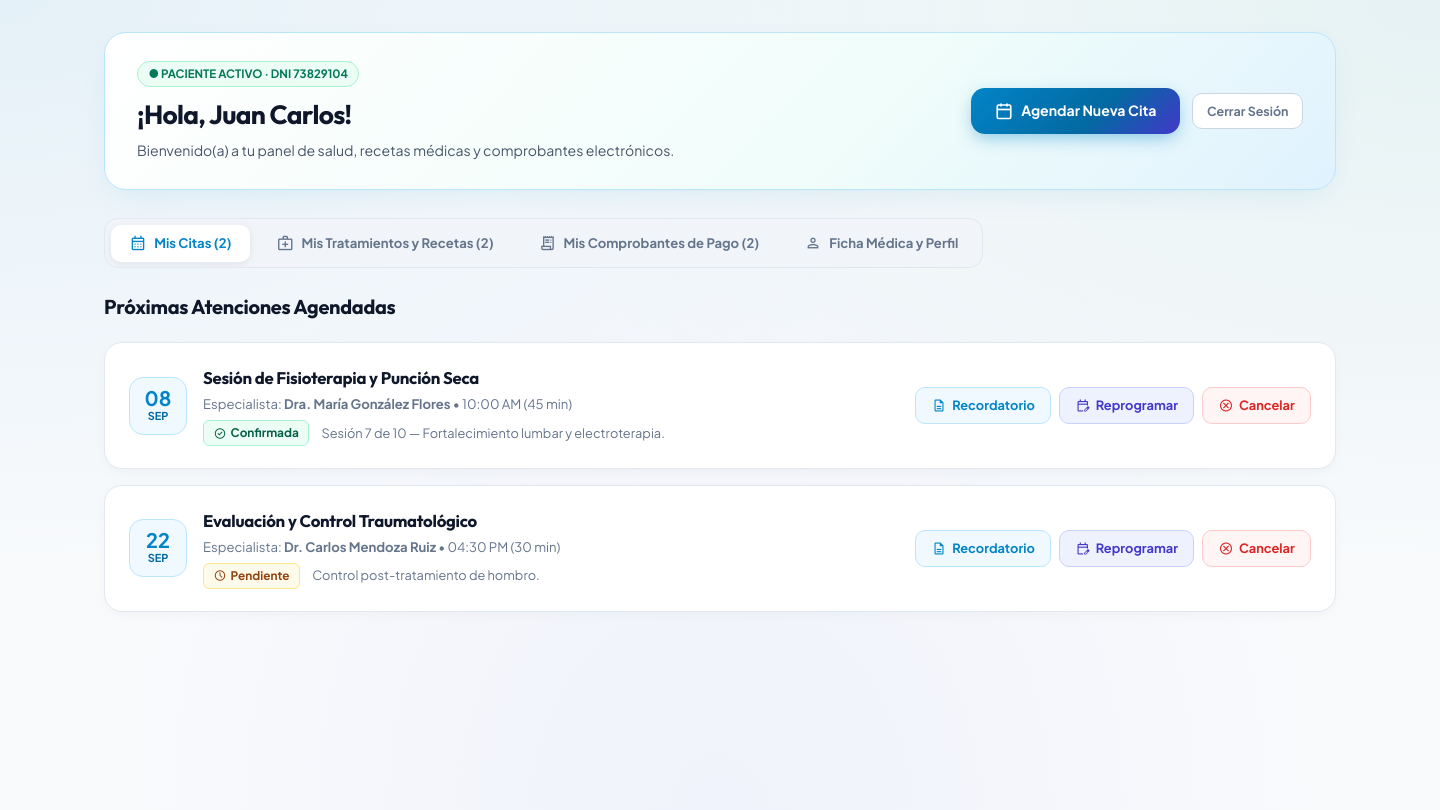
Test: PatientPortal Component › opens Cancel modal when clicking Cancelar and cancels appointment
Expected: the heading "Sesión de Fisioterapia y Punción Seca" is shown, [203,367,479,388]
Expected: the heading "Evaluación y Control Traumatológico" is shown, [203,510,477,531]
# Click cancel on the first appointment
Click the button "Cancelar" in the row of "45 min". click: (1257, 406)
box: [1202,388,1311,424]
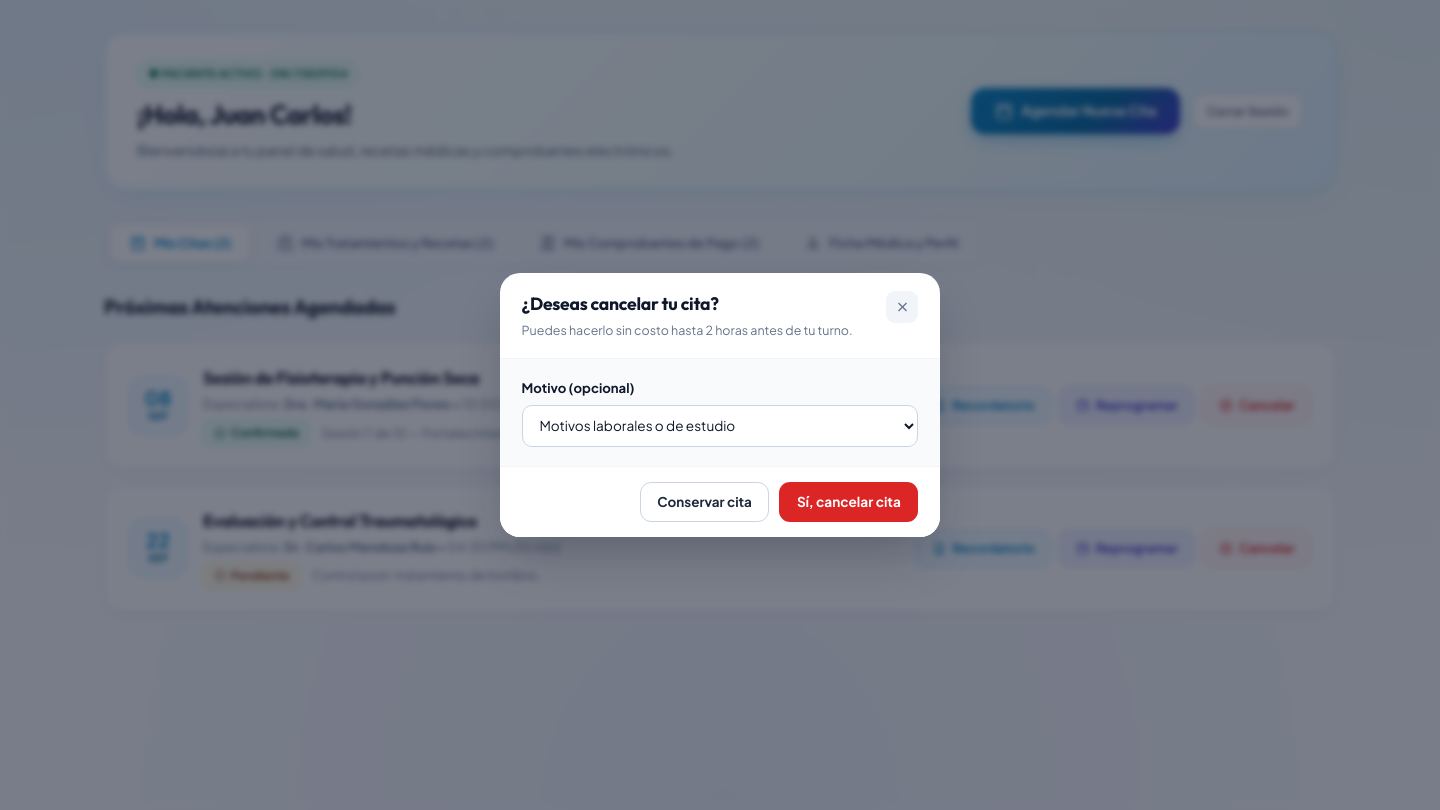
Result: the dialog named "Cancelar cita" is shown
Result: the heading "¿Deseas cancelar tu cita?" is shown at [522,292,719,315]
# Confirm cancellation
Click the button "Sí, cancelar cita". click: (849, 502)
box: [779,482,918,522]
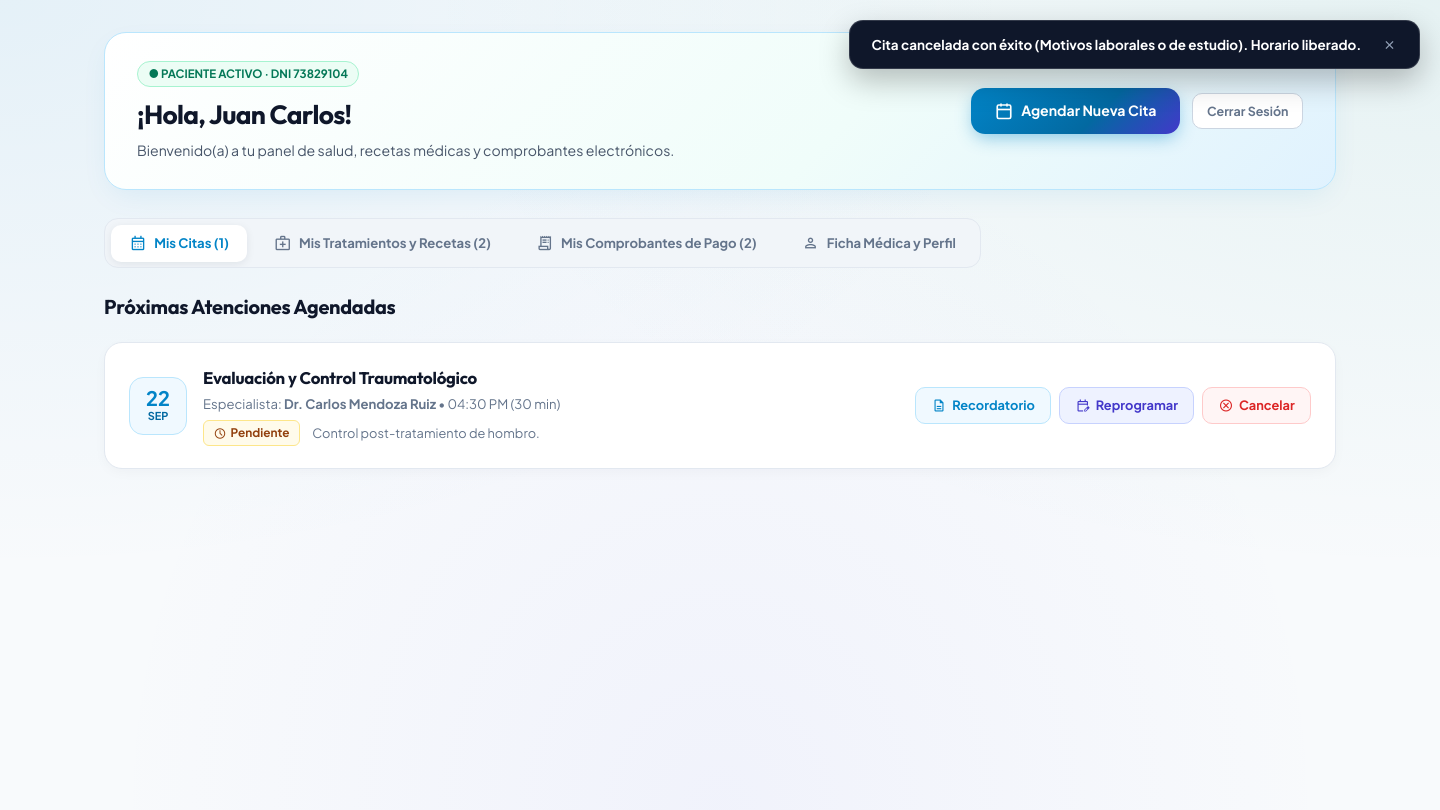
Expected: the heading "Evaluación y Control Traumatológico" is shown, [203,367,477,388]
Result: the text "Cita cancelada con éxito" is shown at [872,36,1361,53]
Result: the heading "Sesión de Fisioterapia y Punción Seca" is gone
